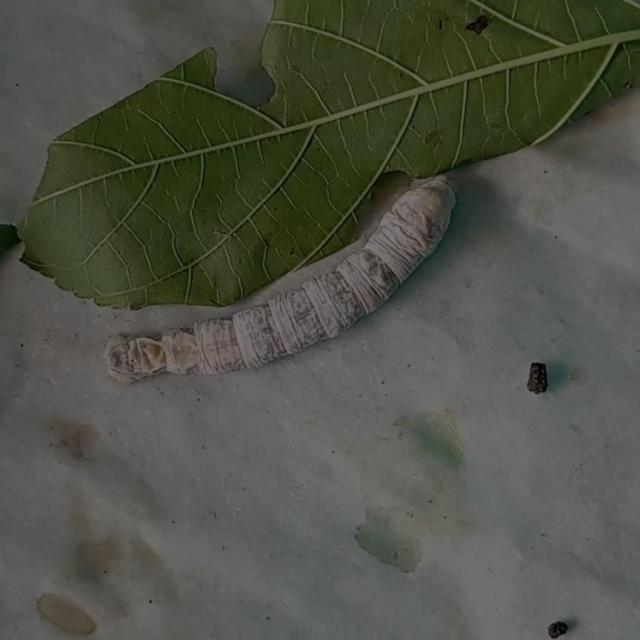Grasserie: (98, 165, 482, 408)
